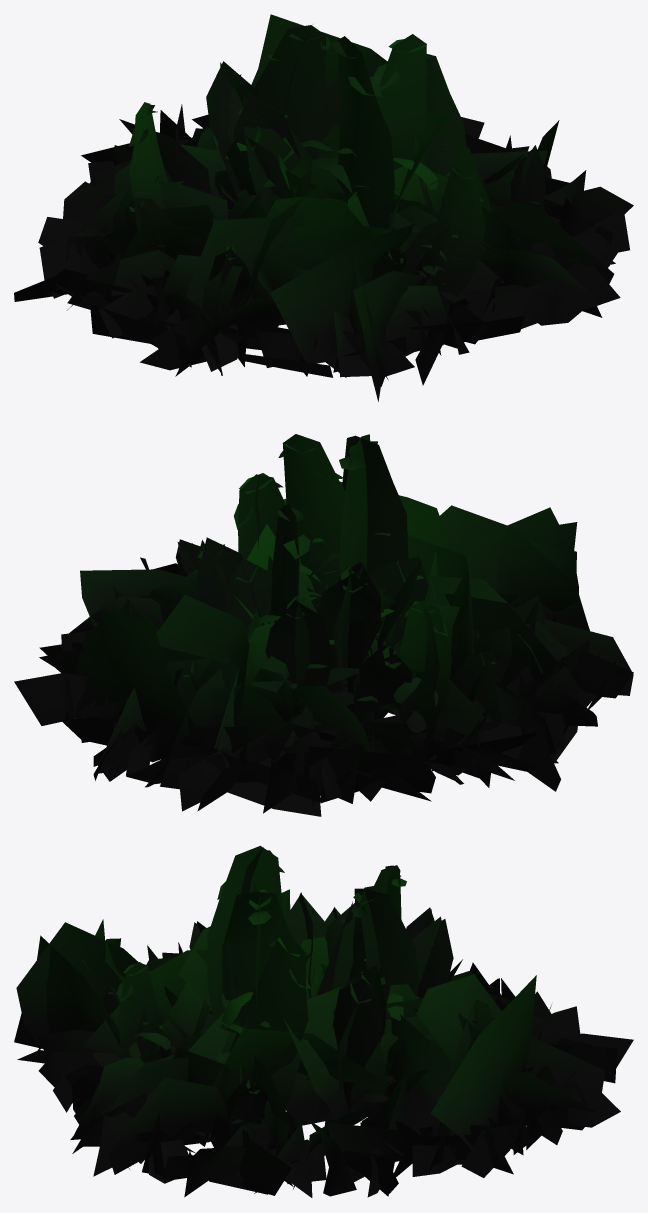
The model's file is Grass Mixed_G.fbx.
3 renders of one model, top to bottom at view 1: azimuth 30°, elevation 25°; view 2: azimuth 150°, elevation 25°; view 3: azimuth 270°, elevation 25°, orthographic. The views are drawn at different scales.
Parts seen in each view (by area): view 1: Grass MixedG_G_LOD0, Grass MixedG_F_LOD0; view 2: Grass MixedG_G_LOD0, Grass MixedG_F_LOD0; view 3: Grass MixedG_G_LOD0, Grass MixedG_F_LOD0.
Part boxes in pixels (box(x1,y1,x2,y2)): Grass MixedG_G_LOD0: box(14, 14, 633, 401); Grass MixedG_F_LOD0: box(123, 25, 545, 313); Grass MixedG_G_LOD0: box(14, 481, 633, 816); Grass MixedG_F_LOD0: box(174, 434, 545, 738); Grass MixedG_G_LOD0: box(14, 889, 633, 1197); Grass MixedG_F_LOD0: box(92, 845, 496, 1135).
Size of what is drawn, in the model's own units: 2.15 by 1.09 by 2.26.
